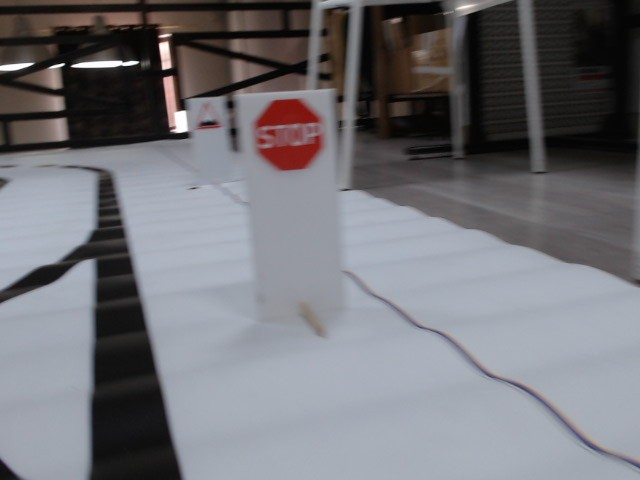Nerov: (194, 102, 223, 130)
Stop: (252, 99, 326, 172)
